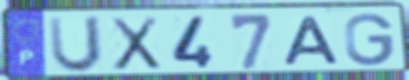4: (169, 14, 221, 72)
7: (228, 12, 275, 72)
A: (282, 15, 343, 68)
G: (343, 11, 396, 68)
U: (46, 15, 104, 76)
X: (107, 15, 163, 73)
